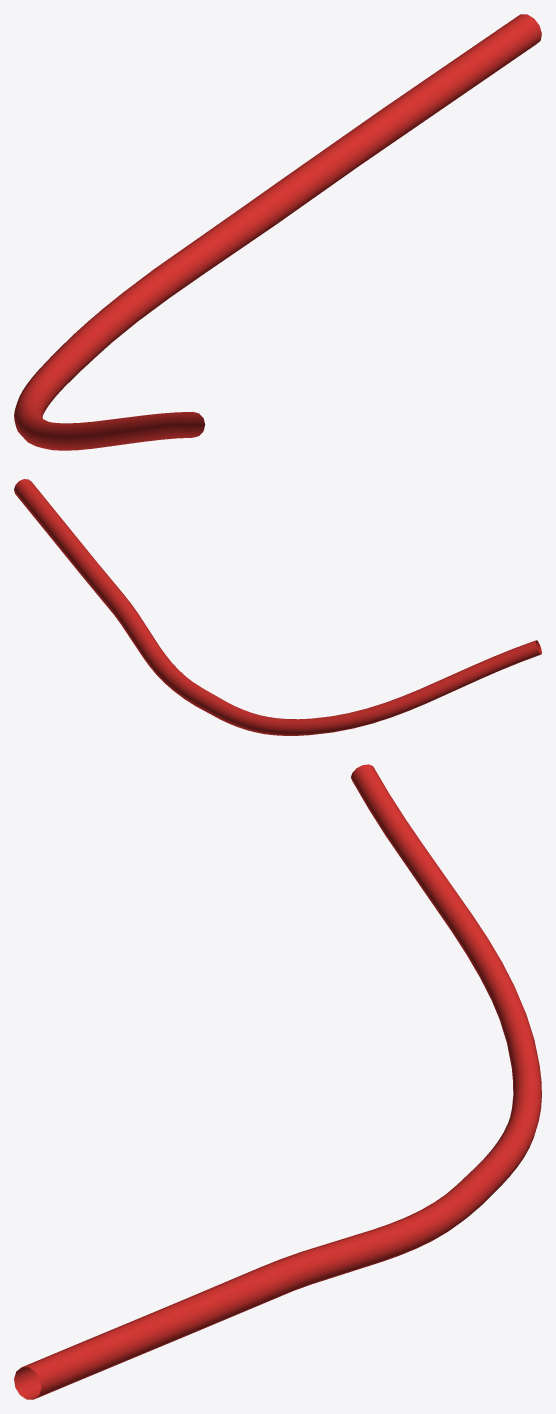
The model's file is circulatorio-posterior-circumflex-humeral-artery-r.glb.
The picture shows the model from 3 angles, top to bottom: view 1: azimuth 90°, elevation 25°; view 2: azimuth 150°, elevation 25°; view 3: azimuth 270°, elevation 25°; orthographic projection. The views are drawn at different scales.
Visible parts, largest first — view 1: Posterior circumflex humeral artery.r; view 2: Posterior circumflex humeral artery.r; view 3: Posterior circumflex humeral artery.r.
Boxes of the visible parts, left/top/right/bottom form: Posterior circumflex humeral artery.r: left=14, top=14, right=541, bottom=450; Posterior circumflex humeral artery.r: left=14, top=479, right=541, bottom=735; Posterior circumflex humeral artery.r: left=14, top=764, right=541, bottom=1399.
Bounding box in the file's own units: 0.0559 × 0.01 × 0.0244.
